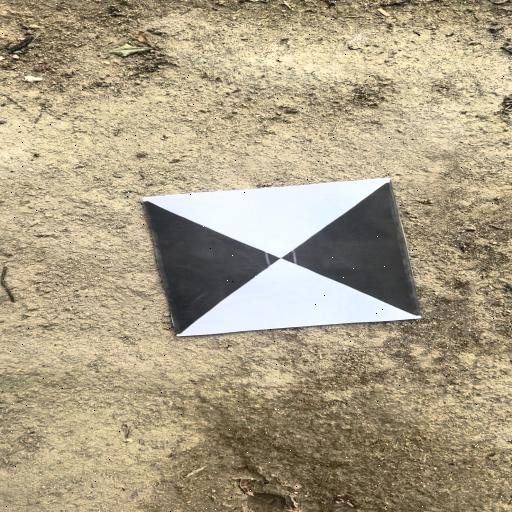target: (142, 178, 423, 339)
